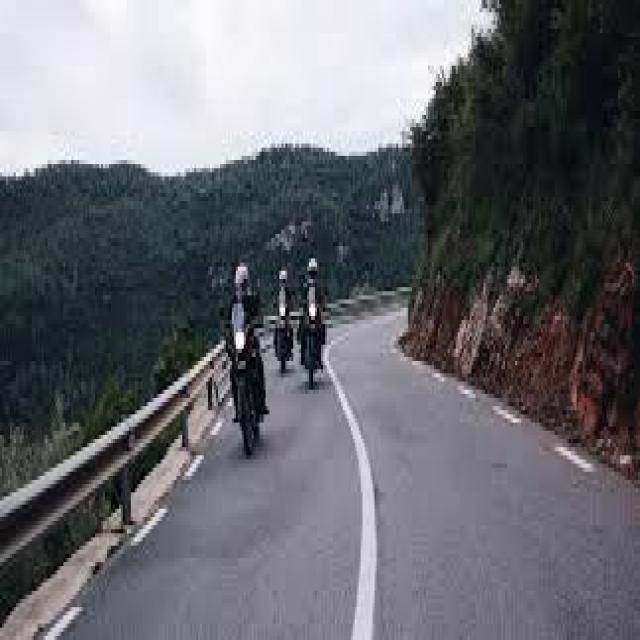MOTORCYCLE: (231, 310, 266, 448), (300, 281, 325, 387), (274, 286, 299, 377)
